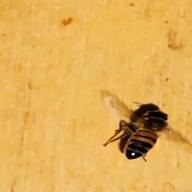Bee: (109, 93, 192, 176)
